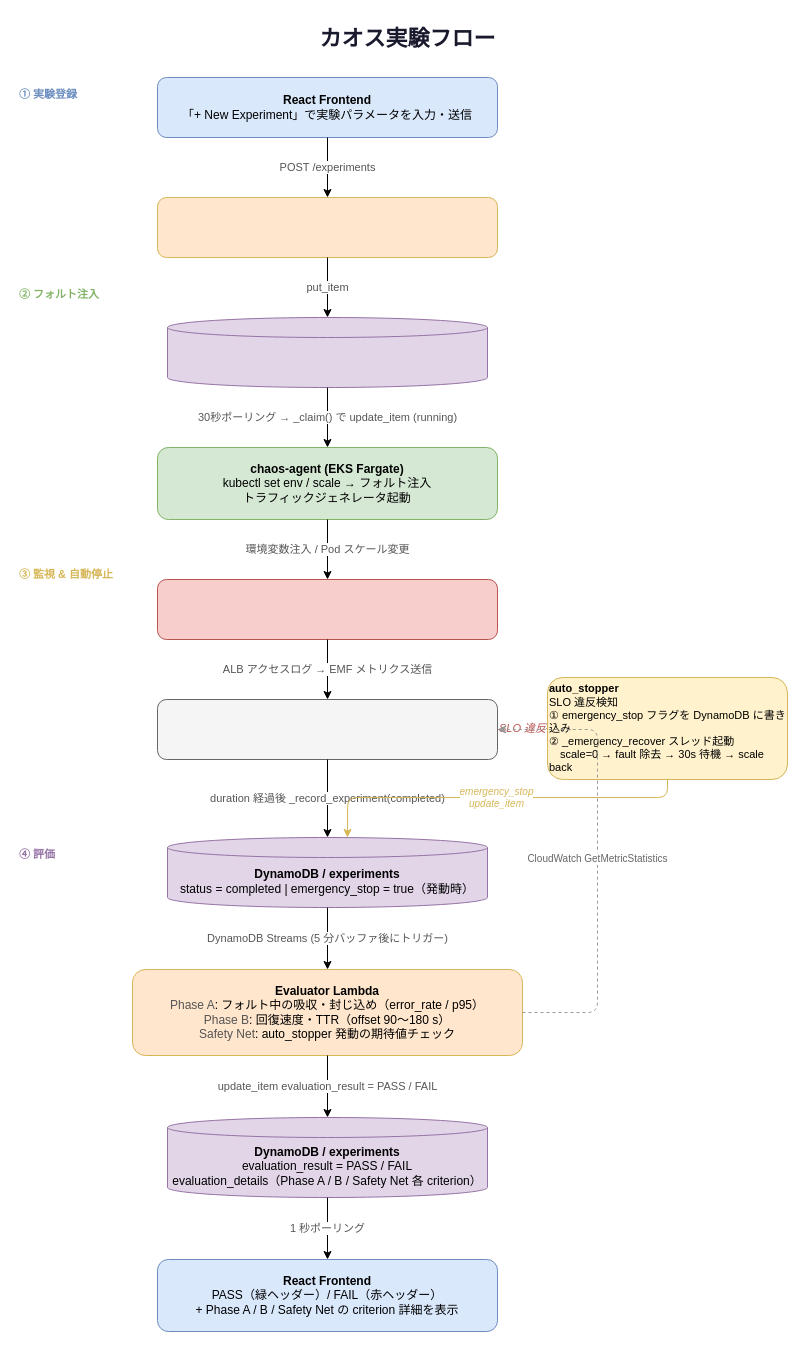
This 805x1349 diagram has some shape labels left out. Here are the shapes that lost their labels. From the top down, the centre of each, then its label:
At [327,227]: "API Handler (Lambda) put_item: status= pending , started_at=T₁".
At [327,352]: "DynamoDB / experiments status = pending".
At [327,609]: "service-b (EKS Fargate) フォルト注入中（遅延 / HTTP エラー / CPU・メモリ負荷 / Pod 再起動）".
At [327,729]: "ALB + CloudWatch error_rate / p95 latency を 1 分粒度で収集".
